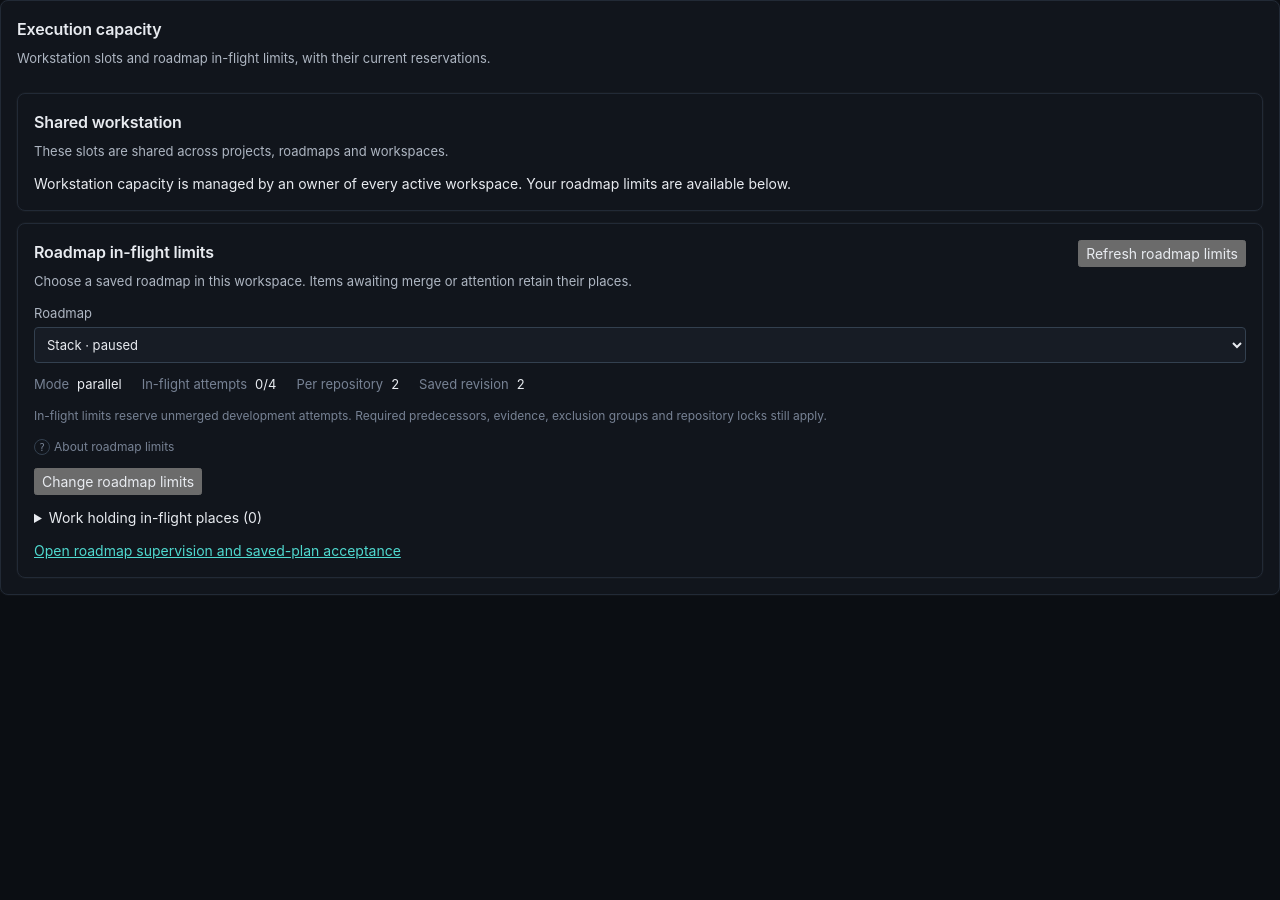
it: keeps roadmap controls usable for editors without requesting installation authority
Click the button "Change roadmap limits".
click(118, 482)  # box top-left (34, 468), bottom-right (202, 495)
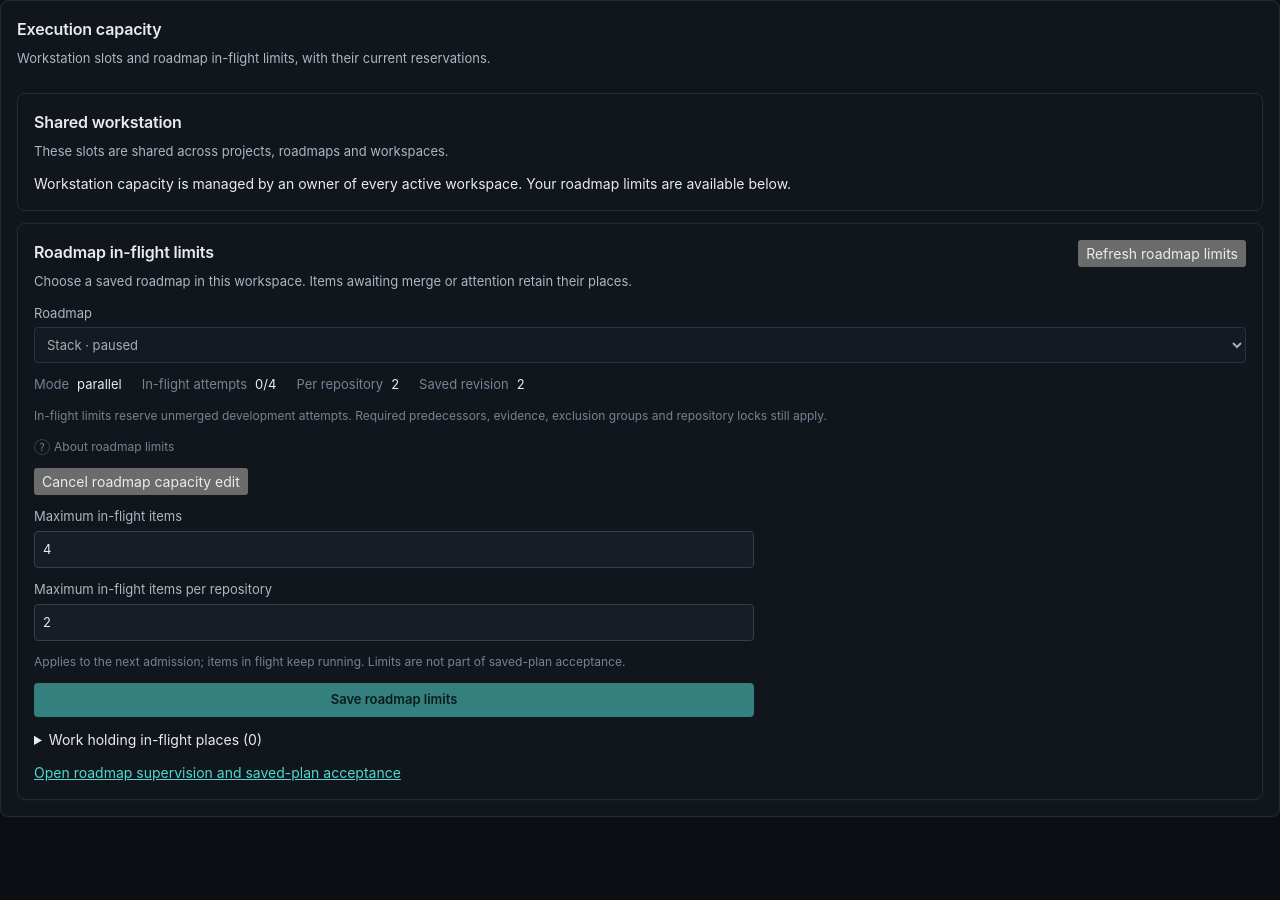
Replace the text in the number field labelled "Maximum in-flight items" with "3" at (394, 549), box top-left (34, 530), bottom-right (754, 568)
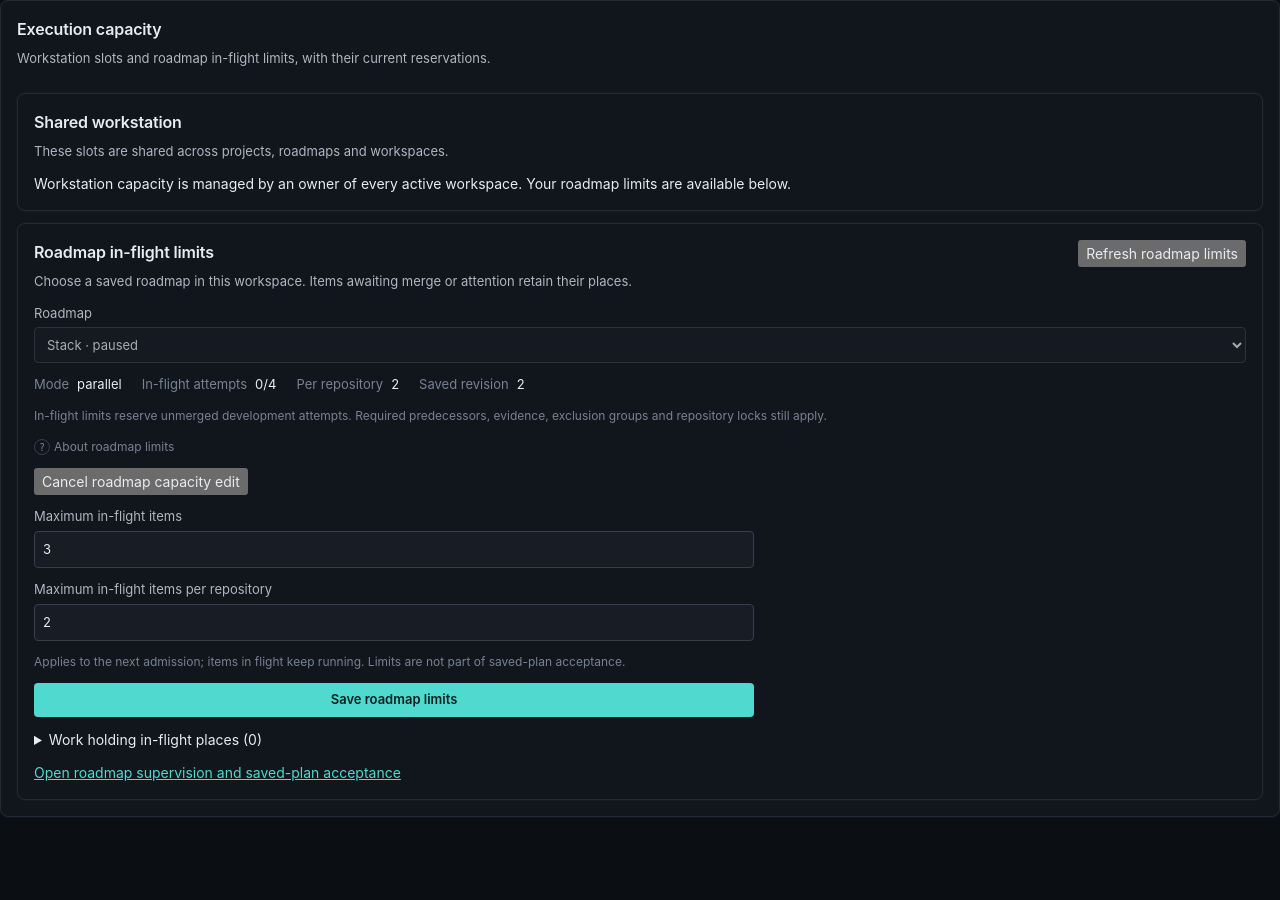
Click the button "Refresh roadmap limits".
click(1162, 254)  # box top-left (1078, 240), bottom-right (1246, 267)
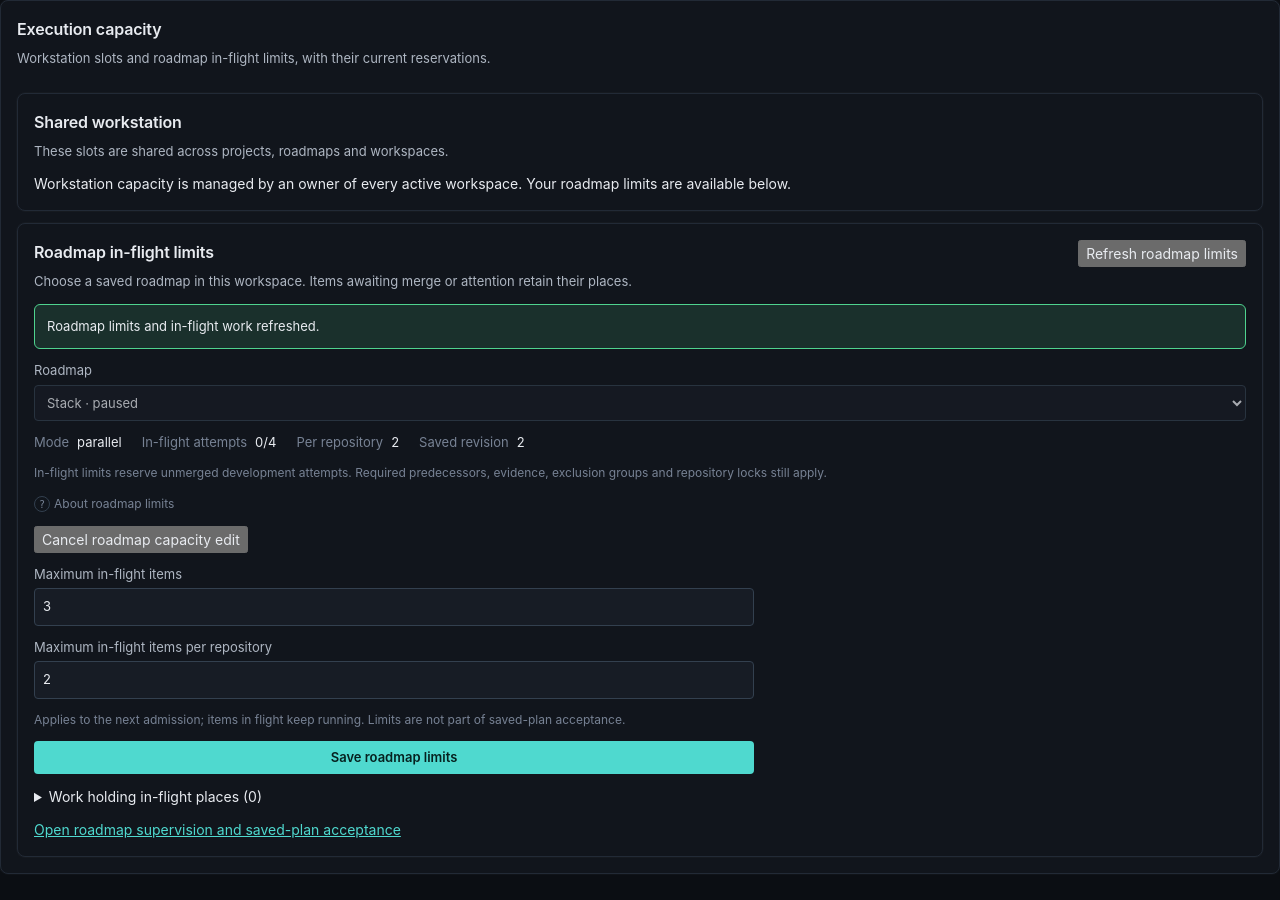
Check: the text "Roadmap limits and in-flight work refreshed." is shown, box top-left (34, 304), bottom-right (1246, 349)
Click the button "Save roadmap limits".
click(394, 757)  # box top-left (34, 740), bottom-right (754, 774)
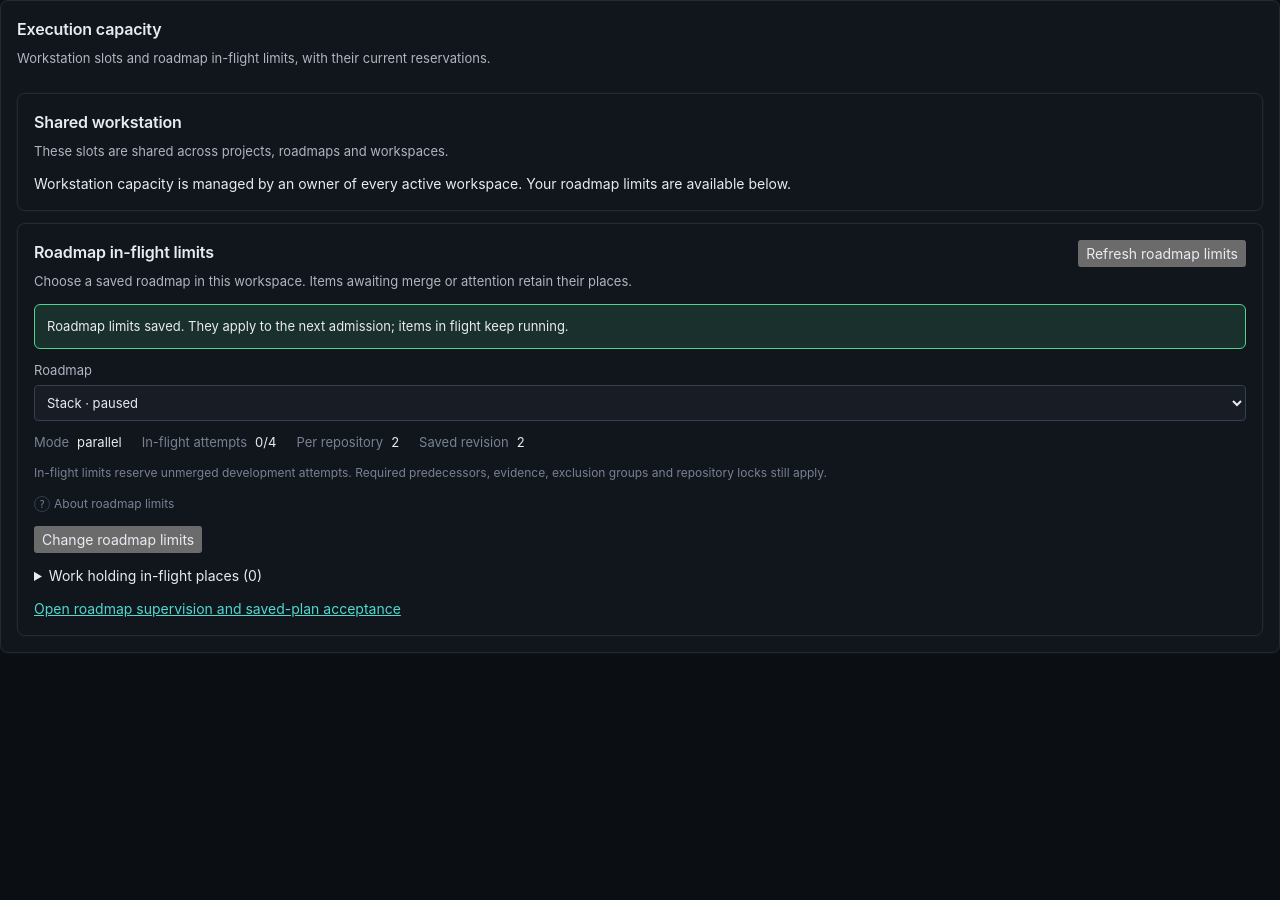
Check: the text "Roadmap limits saved. They apply to the next admission; items in flight keep running." is shown, box top-left (47, 318), bottom-right (569, 334)
